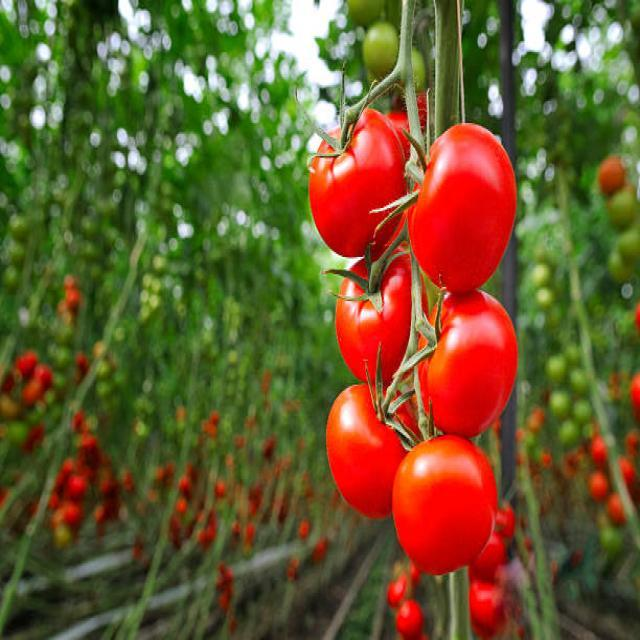kirmizi: (304, 102, 528, 590)
